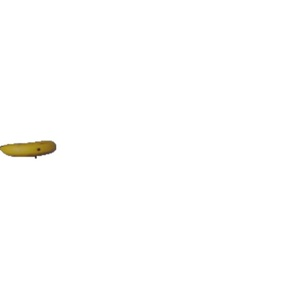banana: (1, 132, 59, 162)
